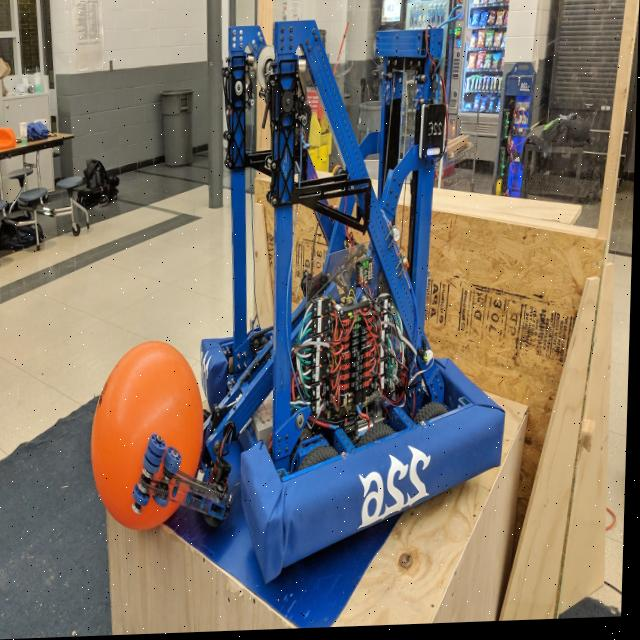robot: (89, 21, 517, 593)
